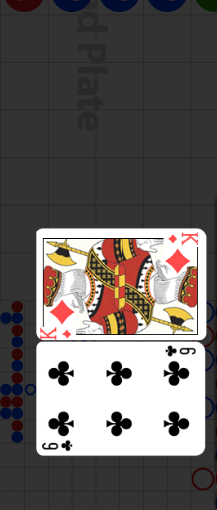6C: (163, 345, 197, 359)
KD: (167, 230, 200, 245)
